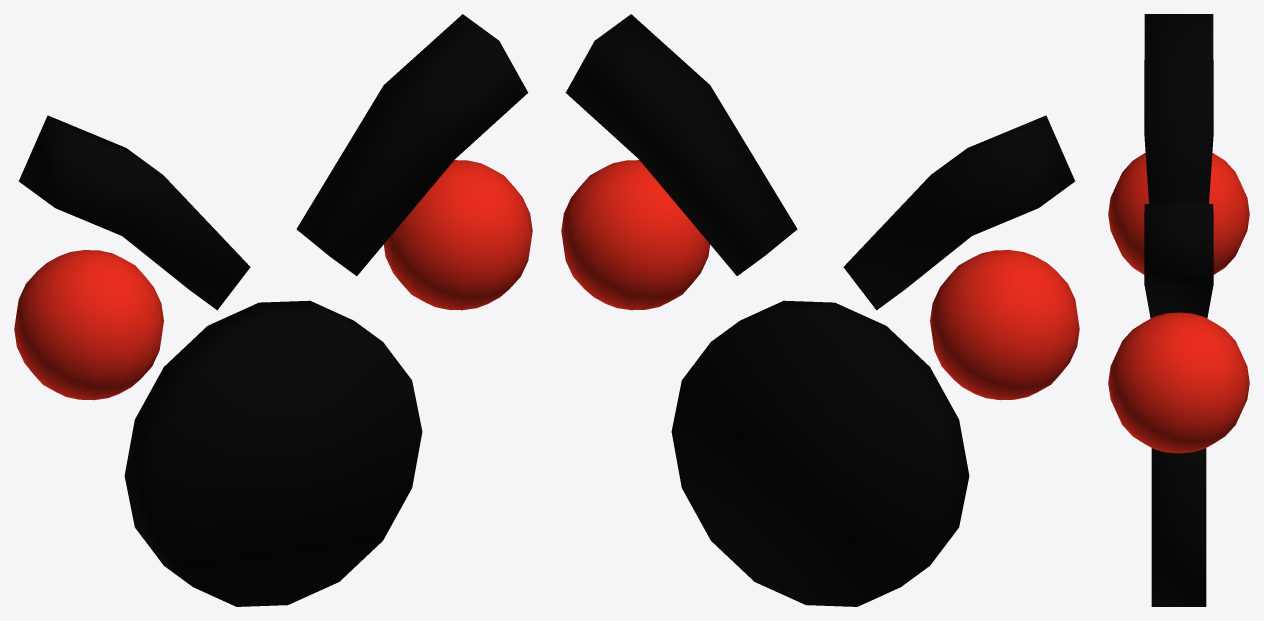
The model's file is GuardianFacePuff.glb.
The picture shows the model from 3 angles, left to right: view 1: azimuth 30°, elevation 25°; view 2: azimuth 150°, elevation 25°; view 3: azimuth 270°, elevation 25°; orthographic projection. The views are drawn at different scales.
Parts seen in each view (by area): view 1: GuardianFacePuff, Mouth; view 2: GuardianFacePuff, Mouth; view 3: GuardianFacePuff, Mouth.
Boxes of the visible parts, x1=… form: GuardianFacePuff: x1=14, y1=14, x2=532, y2=400; Mouth: x1=124, y1=300, x2=422, y2=606; GuardianFacePuff: x1=561, y1=14, x2=1079, y2=400; Mouth: x1=671, y1=300, x2=969, y2=606; GuardianFacePuff: x1=1108, y1=14, x2=1249, y2=453; Mouth: x1=1151, y1=448, x2=1206, y2=606.
Bounding box in the file's own units: 5.95 × 5.88 × 1.56.
